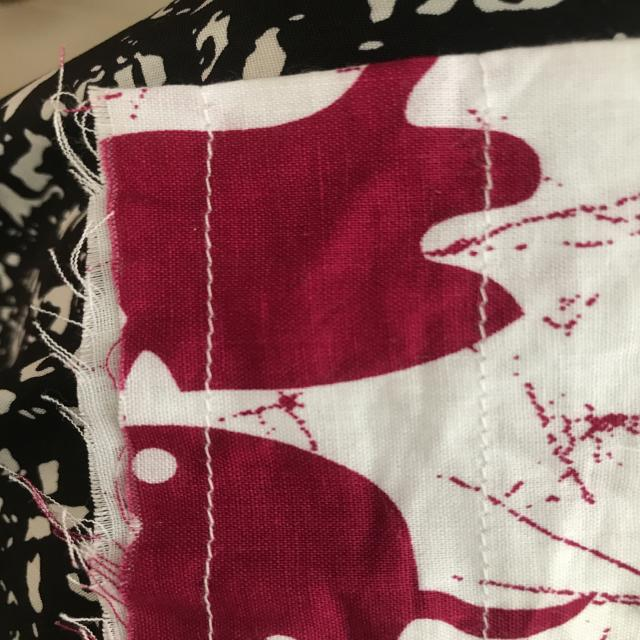good: (192, 152, 226, 372), (189, 437, 230, 519)
